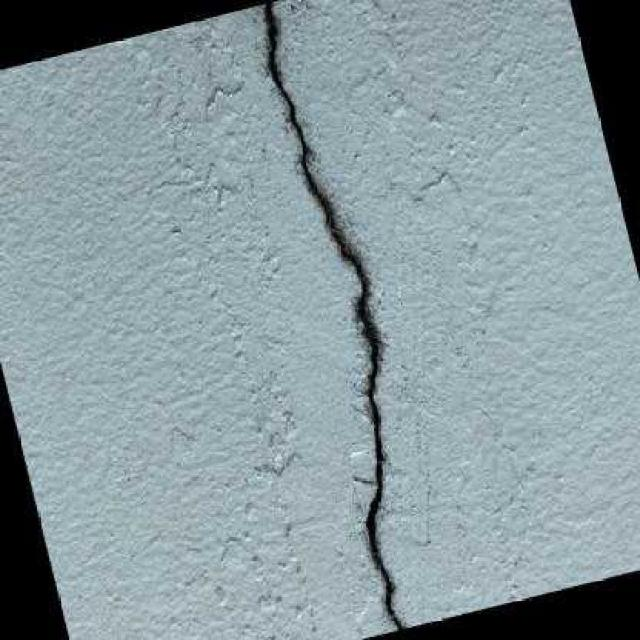D00: (264, 2, 403, 631)
